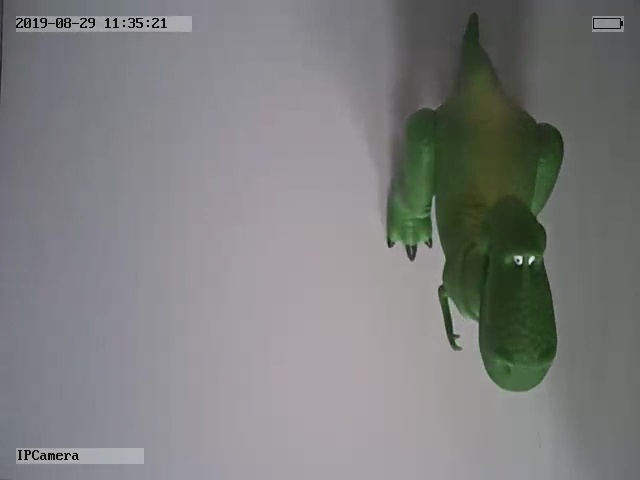rex: (383, 15, 564, 395)
